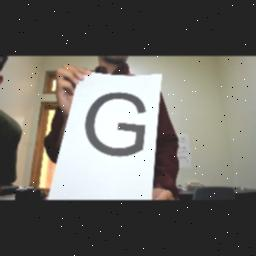g: (76, 86, 156, 164)
